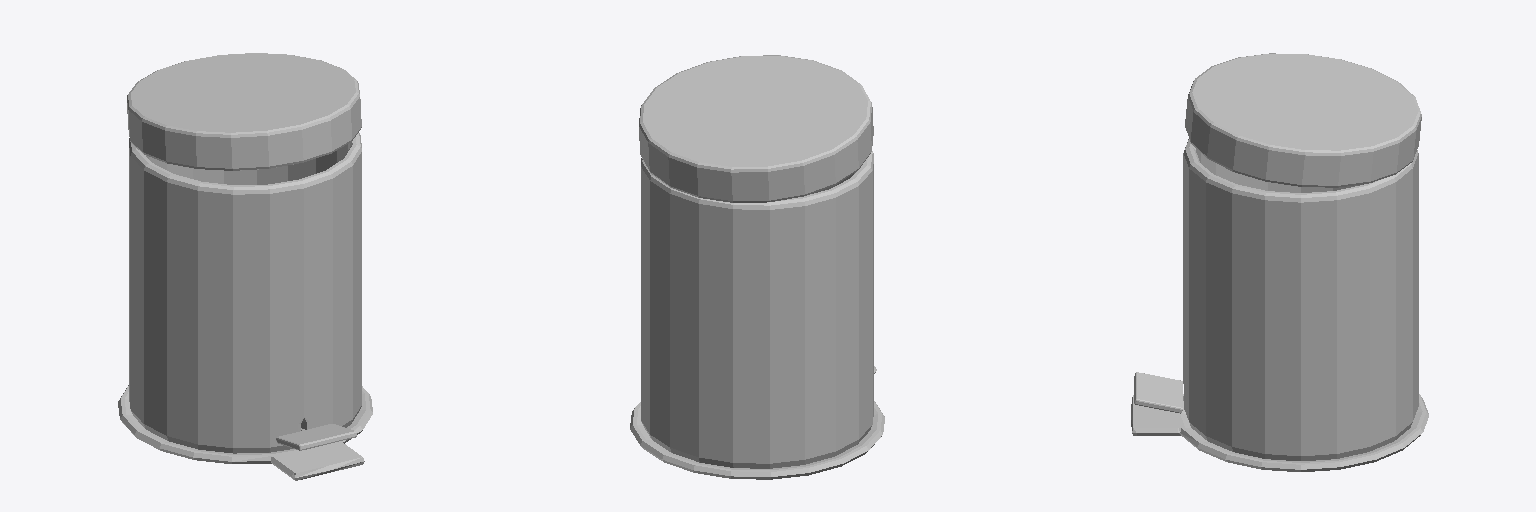
The model's file is trash_can_03.obj.
3 renders of one model, left to right at view 1: azimuth 30°, elevation 25°; view 2: azimuth 150°, elevation 25°; view 3: azimuth 270°, elevation 25°, orthographic.
Visible parts, largest first — view 1: trash_can_03_main, trash_can_02_cap, trash_can_02_pedal; view 2: trash_can_03_main, trash_can_02_cap; view 3: trash_can_03_main, trash_can_02_cap, trash_can_02_pedal.
Boxes of the visible parts, <box> form: trash_can_03_main: <box>118,133,372,480</box>; trash_can_02_cap: <box>127,53,361,170</box>; trash_can_02_pedal: <box>276,424,356,450</box>; trash_can_03_main: <box>630,151,884,479</box>; trash_can_02_cap: <box>639,55,873,202</box>; trash_can_03_main: <box>1131,139,1428,471</box>; trash_can_02_cap: <box>1185,53,1421,187</box>; trash_can_02_pedal: <box>1134,372,1183,413</box>.
Bounding box in the file's own units: 22.37 × 31.38 × 26.02.